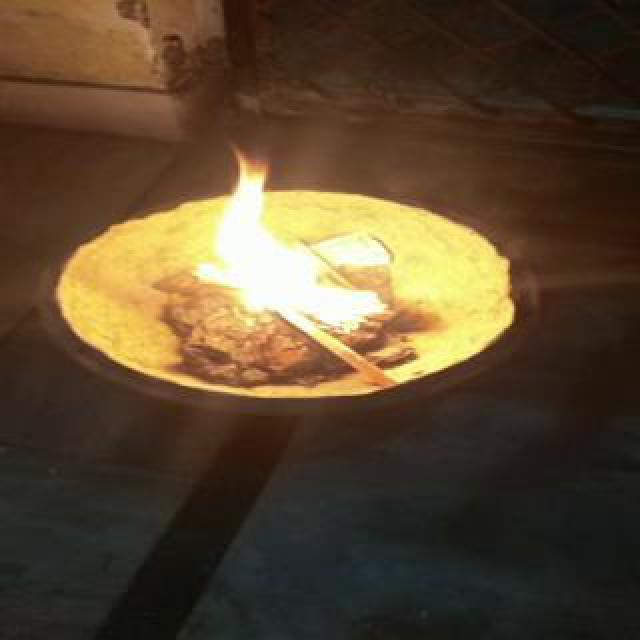Fire: (200, 150, 410, 318)
